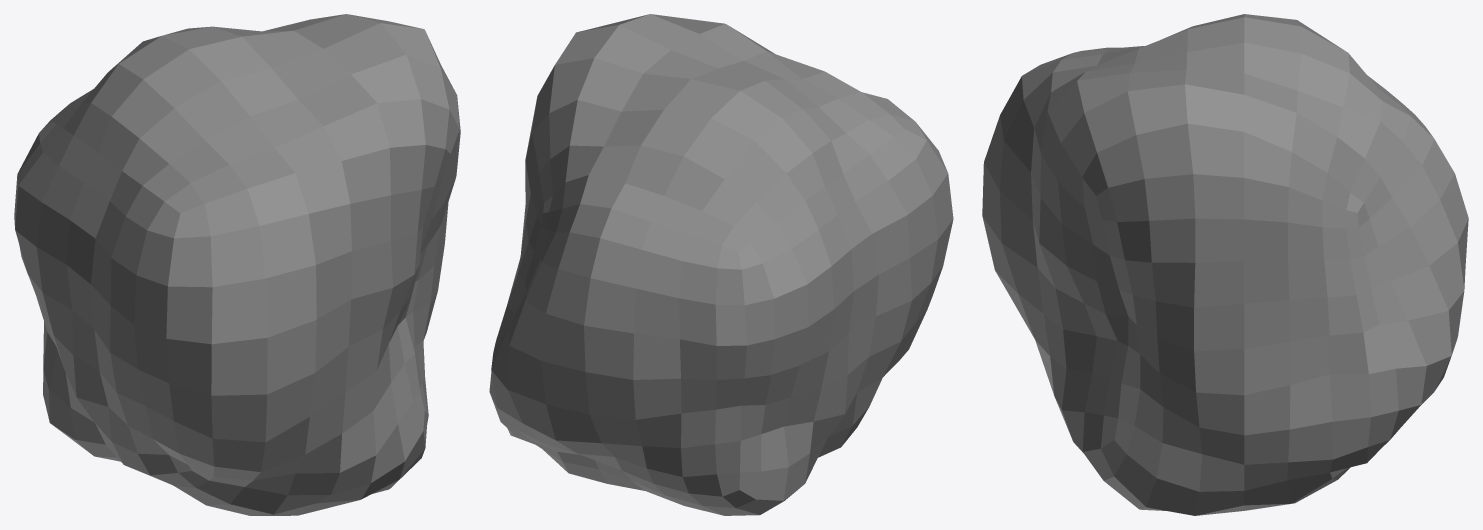
File: stone9.fbx
3 views of the same model, side by side, from view 1: azimuth 30°, elevation 25°; view 2: azimuth 150°, elevation 25°; view 3: azimuth 270°, elevation 25° (orthographic). The views are drawn at different scales.
Parts seen in each view (by area): view 1: Cube.002; view 2: Cube.002; view 3: Cube.002.
Part boxes in pixels (bbox=[...]): Cube.002: bbox=[14, 14, 460, 515]; Cube.002: bbox=[489, 14, 953, 515]; Cube.002: bbox=[982, 14, 1468, 515].
Size of the model in its own units: 68.5 by 80.02 by 80.66.
Materials: 1 (1 with a texture image).
